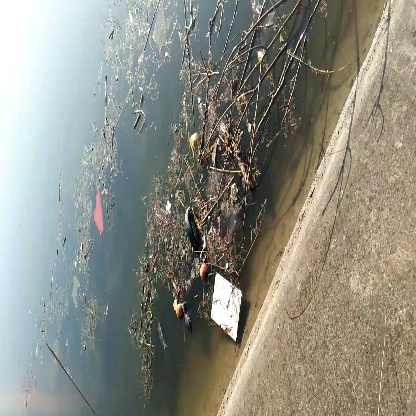plastic-garbage: (201, 269, 249, 343)
